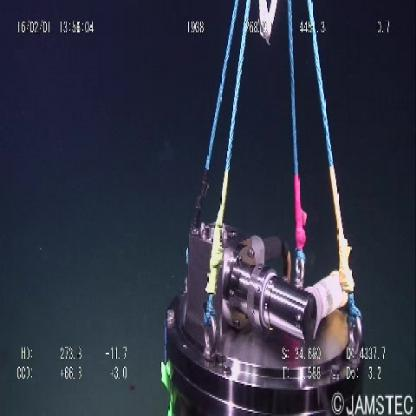Rov: (160, 1, 367, 414)
